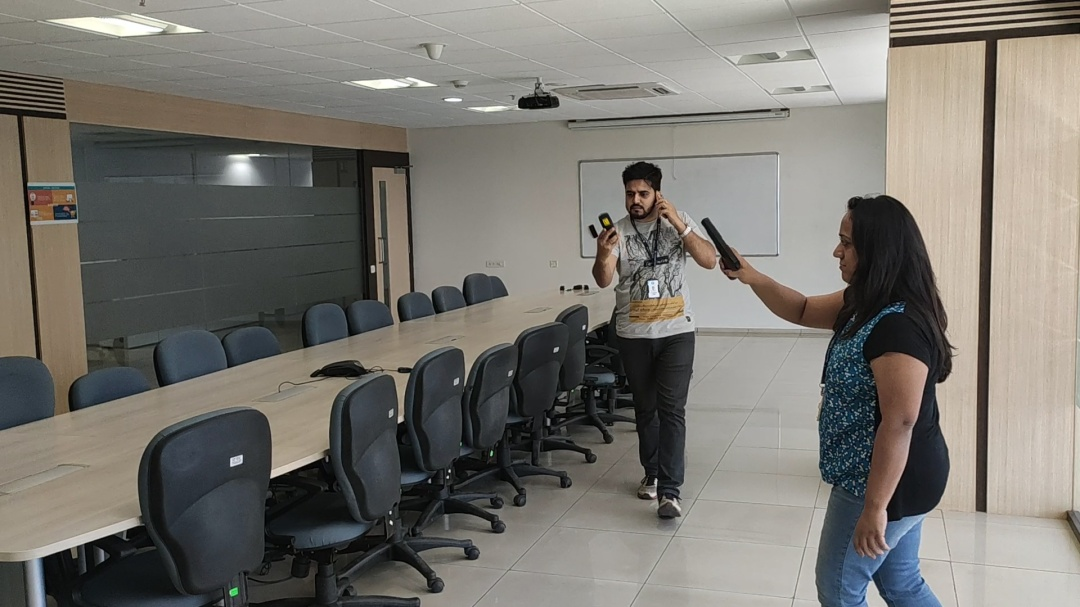gun: (700, 216, 742, 271)
